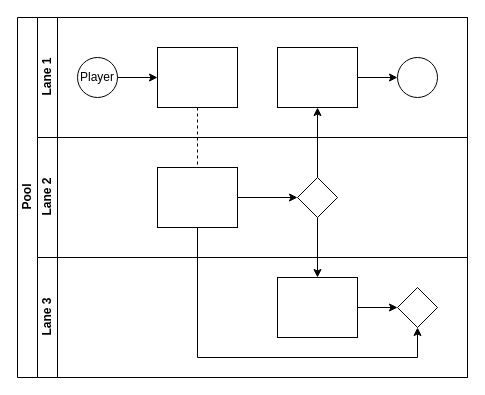
The diagram is 485 pixels wide and 395 high, and some of its shapes have lost their labels. The shapes that lost their labels are listed below. From the top down, each one's centre as x and y in pixels, then its label:
point 197,77: Login
point 197,197: Lobby
point 317,197: 是否在游戏中
